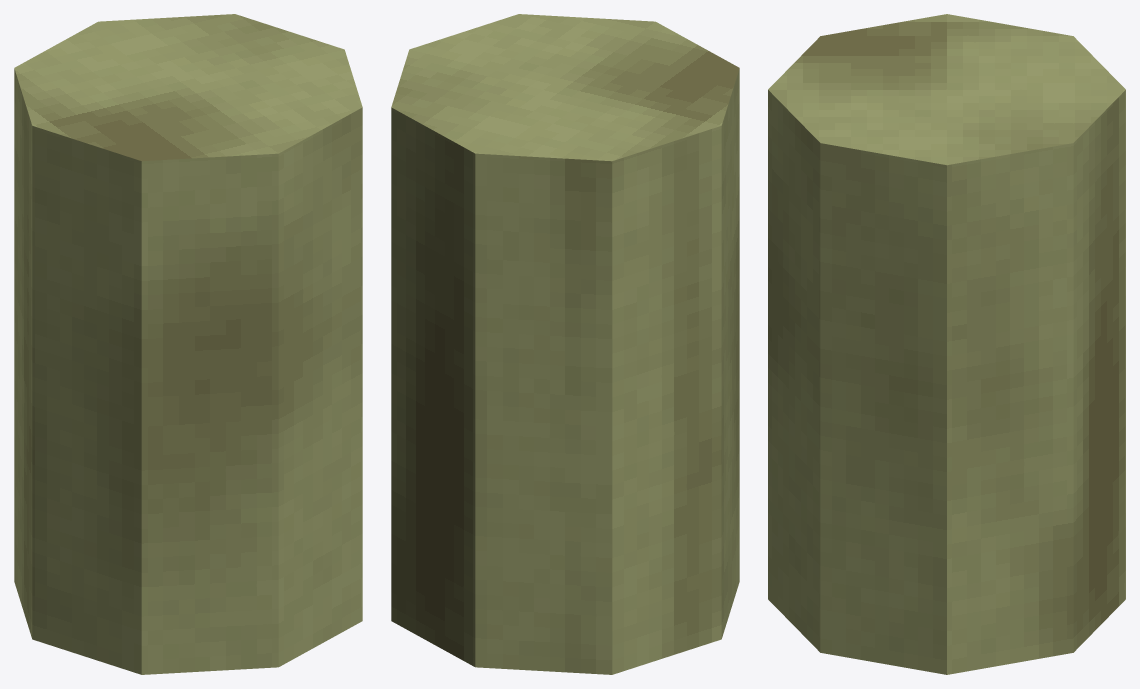
File: Prop_Vase.fbx
The picture shows the model from 3 angles, left to right: view 1: azimuth 30°, elevation 25°; view 2: azimuth 150°, elevation 25°; view 3: azimuth 270°, elevation 25°; orthographic projection.
Visible parts, largest first — view 1: Prop_Vase; view 2: Prop_Vase; view 3: Prop_Vase.
Boxes of the visible parts, <box> form: Prop_Vase: <box>14,14,362,674</box>; Prop_Vase: <box>391,14,739,674</box>; Prop_Vase: <box>768,14,1125,674</box>.
Size of the model in its own units: 0.14 by 0.22 by 0.14.
Materials: 1 (1 with a texture image).
